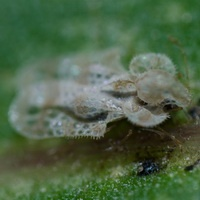insect: (9, 49, 190, 138)
